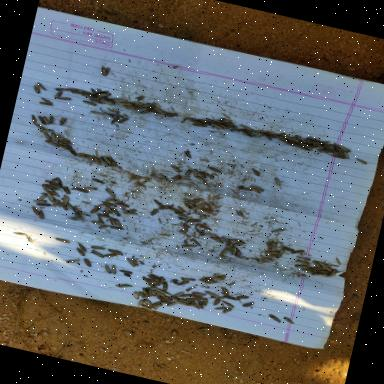pbw: (164, 110, 180, 120), (220, 121, 237, 130), (199, 278, 217, 286), (80, 92, 98, 100), (265, 248, 280, 257), (110, 112, 125, 121), (266, 314, 281, 323), (141, 299, 154, 309), (97, 156, 110, 166), (104, 188, 117, 198), (148, 288, 161, 298), (206, 166, 222, 174), (44, 140, 60, 148), (90, 244, 106, 252), (218, 118, 234, 126), (48, 182, 64, 190), (90, 220, 106, 228), (295, 260, 311, 268), (44, 184, 60, 192), (222, 295, 240, 302), (66, 257, 80, 266), (224, 243, 235, 254), (190, 300, 202, 310), (339, 150, 351, 160), (124, 258, 136, 268), (107, 248, 122, 256), (102, 156, 114, 166), (100, 66, 110, 78), (146, 274, 161, 282), (180, 276, 195, 284), (112, 218, 124, 228), (110, 208, 122, 218), (168, 164, 180, 174), (250, 168, 262, 178), (250, 185, 265, 193), (54, 142, 69, 150), (102, 200, 116, 208), (156, 294, 170, 302), (96, 90, 110, 98), (196, 326, 210, 334), (242, 130, 256, 138), (72, 187, 88, 194), (118, 283, 132, 291), (98, 99, 114, 106), (40, 127, 54, 135), (31, 122, 45, 130), (332, 146, 348, 153), (36, 201, 52, 208), (65, 215, 81, 222), (36, 116, 47, 126), (41, 116, 52, 126), (110, 116, 120, 127), (41, 132, 52, 142), (195, 201, 205, 212), (218, 287, 230, 296), (172, 301, 190, 307), (176, 279, 188, 288), (74, 248, 86, 257), (55, 237, 70, 244), (204, 291, 219, 298), (173, 211, 188, 218), (56, 95, 71, 102), (210, 237, 225, 244), (355, 158, 368, 166), (182, 116, 195, 124), (195, 300, 205, 310), (221, 306, 231, 316), (30, 206, 40, 216), (140, 288, 150, 298), (32, 84, 42, 94), (167, 300, 178, 309), (185, 296, 199, 303), (39, 98, 53, 105), (90, 252, 104, 259), (150, 286, 164, 293), (80, 90, 94, 97), (140, 305, 154, 312), (296, 145, 310, 152), (82, 185, 96, 192), (228, 237, 242, 244), (192, 291, 206, 298), (188, 218, 202, 225), (170, 207, 184, 214), (106, 107, 120, 114), (66, 87, 80, 94), (33, 198, 47, 205), (182, 243, 196, 250), (45, 192, 59, 199), (130, 101, 144, 108), (241, 301, 253, 309), (158, 110, 170, 118), (196, 176, 208, 184), (66, 204, 78, 212), (191, 123, 207, 129), (94, 202, 106, 210), (304, 140, 320, 146), (330, 154, 346, 160), (66, 148, 78, 156), (104, 252, 116, 260), (249, 186, 261, 194), (232, 240, 244, 248), (279, 133, 292, 140), (291, 249, 304, 256), (112, 97, 125, 104), (91, 250, 104, 257), (212, 298, 221, 308), (44, 180, 59, 186), (82, 259, 92, 268), (103, 265, 113, 274), (77, 243, 87, 252), (54, 90, 63, 100), (82, 100, 97, 106), (229, 246, 238, 256), (59, 202, 69, 211), (40, 184, 50, 193), (38, 193, 48, 202), (319, 148, 334, 154), (96, 215, 106, 224), (118, 116, 128, 125), (208, 276, 223, 282), (237, 186, 252, 192), (311, 261, 322, 269), (261, 133, 272, 141), (141, 276, 152, 284), (220, 236, 231, 244), (170, 329, 178, 340), (36, 82, 47, 90), (192, 196, 203, 204), (222, 301, 234, 308), (296, 142, 310, 148), (119, 269, 133, 275), (124, 211, 138, 217), (116, 202, 130, 208), (202, 172, 214, 179), (58, 140, 72, 146), (282, 317, 294, 324), (152, 290, 166, 296), (58, 142, 72, 148), (210, 295, 224, 301), (145, 108, 159, 114), (179, 292, 191, 299), (91, 178, 105, 184), (296, 256, 310, 262), (110, 226, 124, 232), (152, 200, 164, 207), (336, 146, 350, 152), (198, 118, 212, 124), (170, 296, 184, 302), (292, 272, 306, 278), (90, 110, 104, 116), (78, 152, 92, 158), (320, 266, 334, 272), (318, 268, 330, 275), (98, 224, 110, 231), (294, 264, 308, 270), (190, 119, 204, 125), (312, 272, 326, 278), (316, 262, 330, 268), (322, 142, 336, 148), (97, 214, 111, 220), (184, 168, 193, 177), (105, 205, 114, 214), (54, 177, 63, 186), (90, 206, 100, 214), (61, 186, 71, 194), (153, 102, 163, 110), (158, 204, 168, 212), (182, 151, 192, 159), (130, 258, 140, 266), (37, 210, 45, 220), (92, 157, 102, 165), (136, 291, 146, 299), (30, 114, 38, 124), (184, 286, 194, 294), (279, 136, 289, 144), (174, 291, 184, 299), (304, 144, 317, 150), (205, 119, 218, 125), (159, 297, 172, 303), (57, 136, 70, 142), (241, 126, 254, 132), (281, 246, 294, 252), (54, 86, 67, 92), (306, 136, 319, 142), (211, 124, 224, 130), (123, 104, 136, 110), (230, 127, 241, 134), (184, 201, 195, 208), (105, 197, 116, 204), (203, 233, 218, 238), (236, 295, 248, 301), (136, 299, 144, 308), (294, 136, 306, 142), (62, 195, 70, 204), (90, 88, 98, 97), (254, 132, 263, 140), (218, 238, 230, 244), (216, 123, 228, 129), (46, 193, 54, 202), (103, 112, 115, 118), (318, 140, 330, 146), (148, 282, 160, 288), (158, 232, 170, 238), (152, 107, 164, 113), (160, 290, 172, 296), (132, 291, 140, 300), (150, 208, 158, 217), (120, 102, 132, 108), (214, 306, 226, 312), (201, 298, 209, 307), (152, 300, 161, 308), (181, 224, 190, 232), (334, 257, 342, 266), (190, 294, 202, 300), (272, 228, 284, 234), (70, 90, 82, 96), (153, 303, 162, 311), (148, 280, 160, 286), (140, 109, 150, 116), (39, 102, 53, 107), (134, 95, 144, 102), (326, 263, 340, 268), (182, 216, 192, 223), (89, 99, 103, 104), (126, 208, 137, 214), (254, 128, 265, 134), (180, 174, 191, 180), (199, 158, 210, 164), (312, 266, 323, 272), (14, 232, 27, 237), (212, 119, 225, 124), (152, 109, 165, 114), (58, 118, 66, 126), (273, 178, 281, 186), (102, 206, 110, 214), (108, 157, 116, 165), (49, 133, 56, 142), (195, 229, 204, 236), (198, 121, 210, 126), (162, 282, 168, 292), (178, 299, 190, 304), (306, 268, 316, 274), (197, 172, 207, 178), (134, 106, 144, 112), (142, 102, 152, 108), (158, 174, 168, 180), (192, 240, 202, 246), (288, 142, 298, 148), (278, 248, 284, 258), (316, 272, 328, 277), (332, 152, 344, 157), (301, 269, 313, 274), (200, 214, 207, 222), (110, 266, 117, 274), (26, 236, 34, 243), (78, 156, 92, 160), (265, 242, 273, 249), (177, 206, 186, 212), (316, 145, 326, 150), (322, 145, 332, 150), (221, 248, 228, 255), (109, 218, 116, 225), (200, 226, 212, 230), (52, 200, 58, 208), (180, 231, 188, 237), (76, 212, 88, 216), (174, 174, 180, 182), (48, 116, 54, 124), (222, 113, 230, 119), (180, 178, 192, 182), (146, 290, 154, 296), (93, 150, 99, 158), (54, 135, 60, 143), (192, 169, 198, 177), (46, 191, 57, 195), (267, 134, 278, 138), (112, 200, 123, 204), (218, 274, 225, 280), (235, 250, 242, 256), (290, 138, 300, 142), (159, 277, 164, 285), (266, 132, 276, 136), (122, 101, 132, 105), (157, 218, 163, 224), (161, 301, 170, 305), (96, 88, 102, 94), (184, 240, 190, 246), (331, 269, 336, 276), (57, 200, 61, 208), (74, 208, 81, 212)
